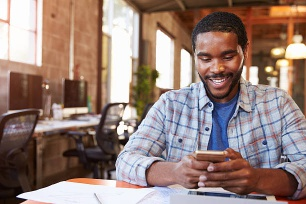male: (187, 18, 251, 104)
